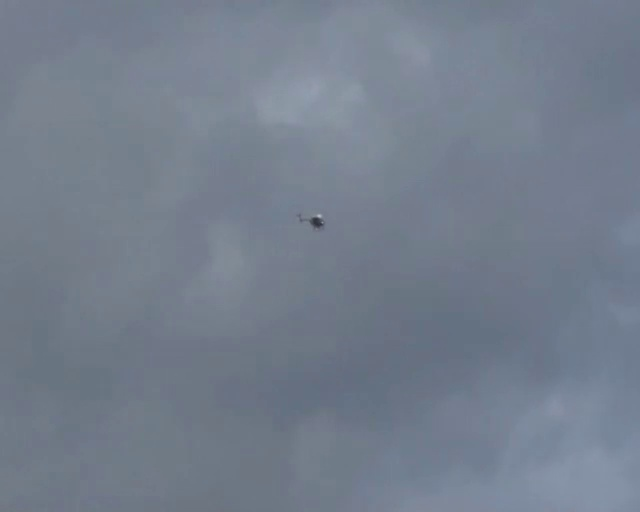HELICOPTER: (296, 212, 325, 230)
